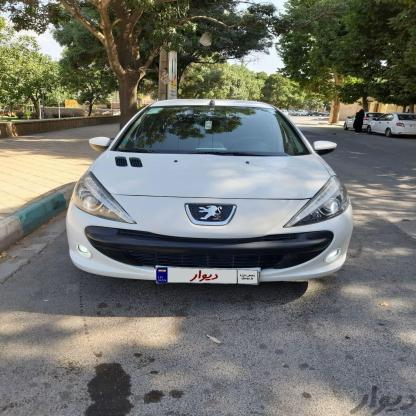Car: (63, 96, 365, 295), (368, 113, 416, 135), (342, 110, 382, 131), (293, 110, 309, 115), (317, 111, 331, 116), (308, 110, 317, 117)
